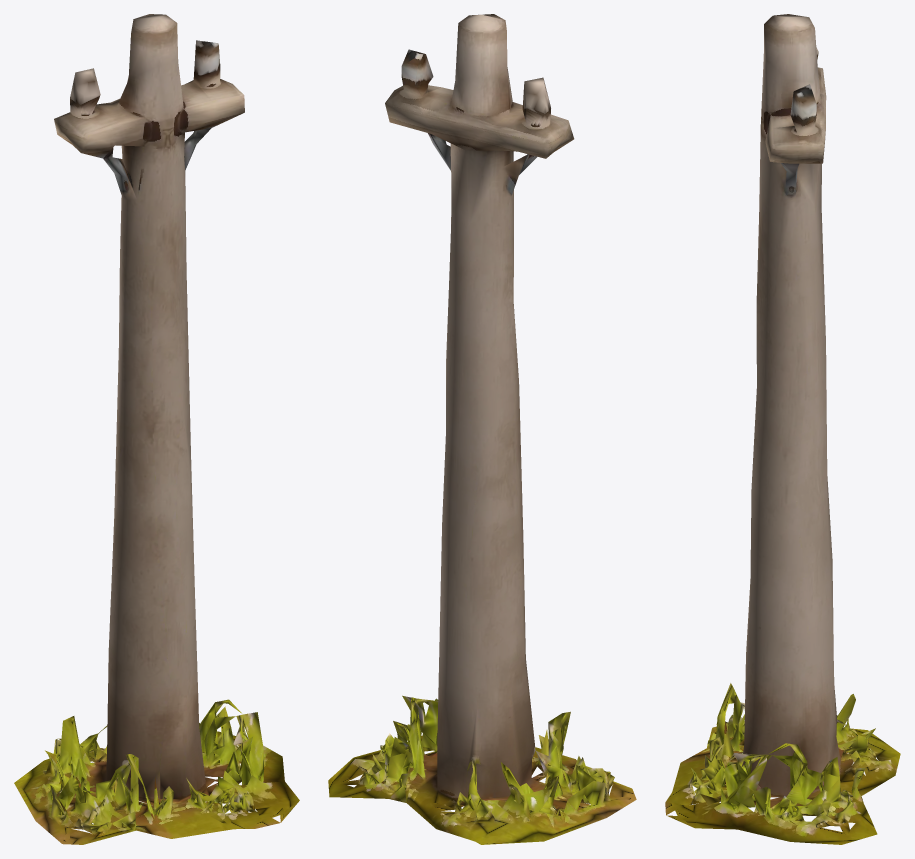
Rendered from pole.glb.
3 views of the same model, side by side, from view 1: azimuth 30°, elevation 25°; view 2: azimuth 150°, elevation 25°; view 3: azimuth 270°, elevation 25° (orthographic).
Size of the model in its own units: 0.3389 by 0.9993 by 0.2773.
1 material, 1 textured.
